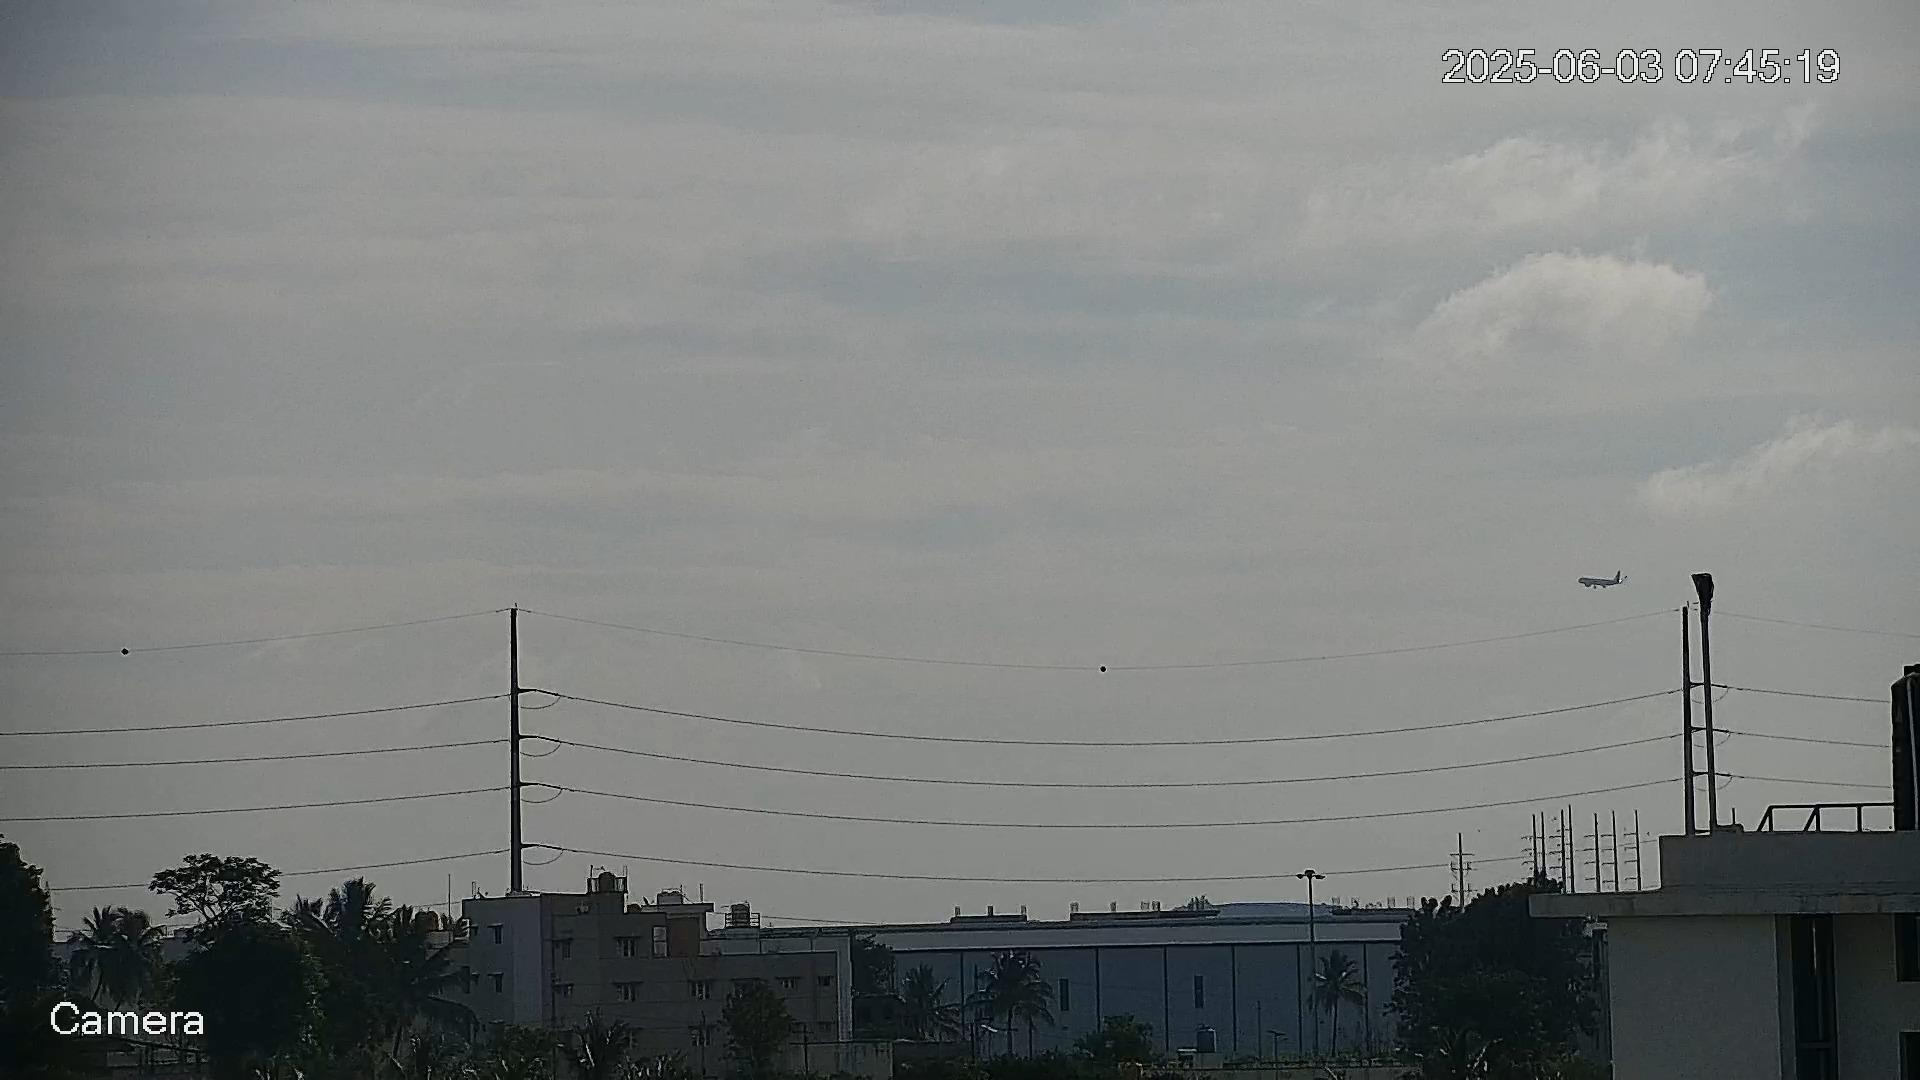Aircraft: (1576, 568, 1626, 591)
